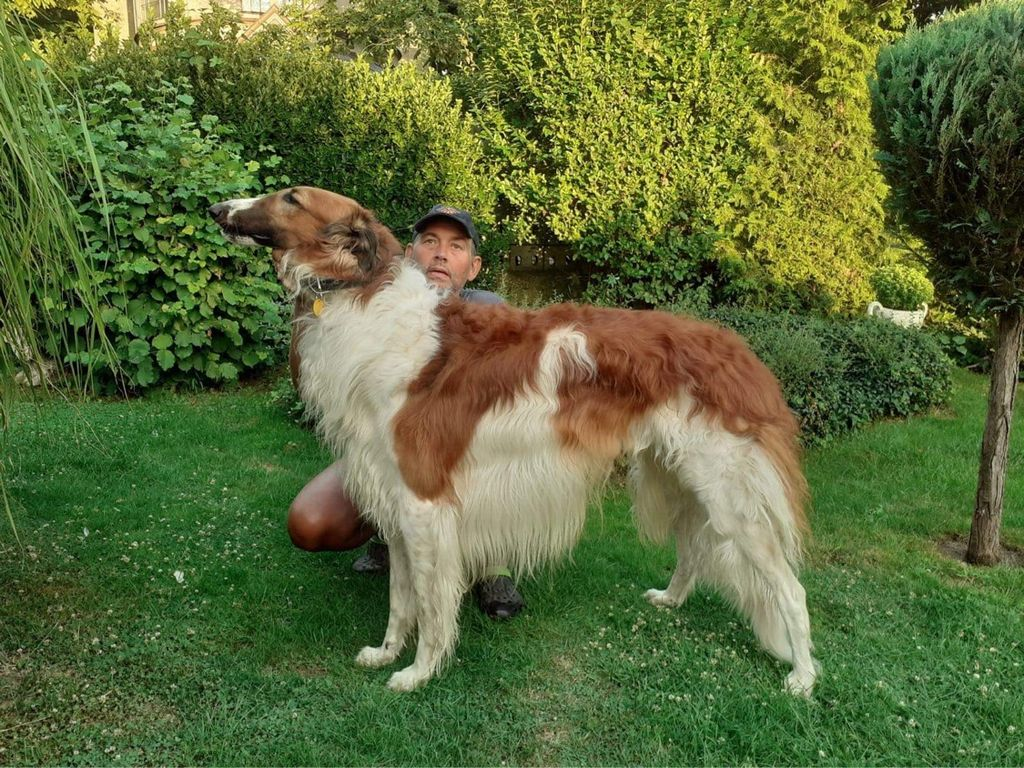borzoi: (200, 184, 842, 705)
